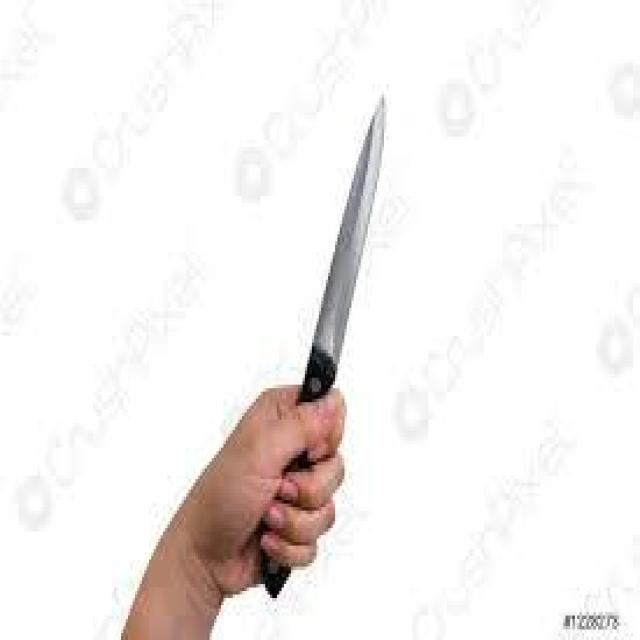faca: (245, 56, 408, 612)
